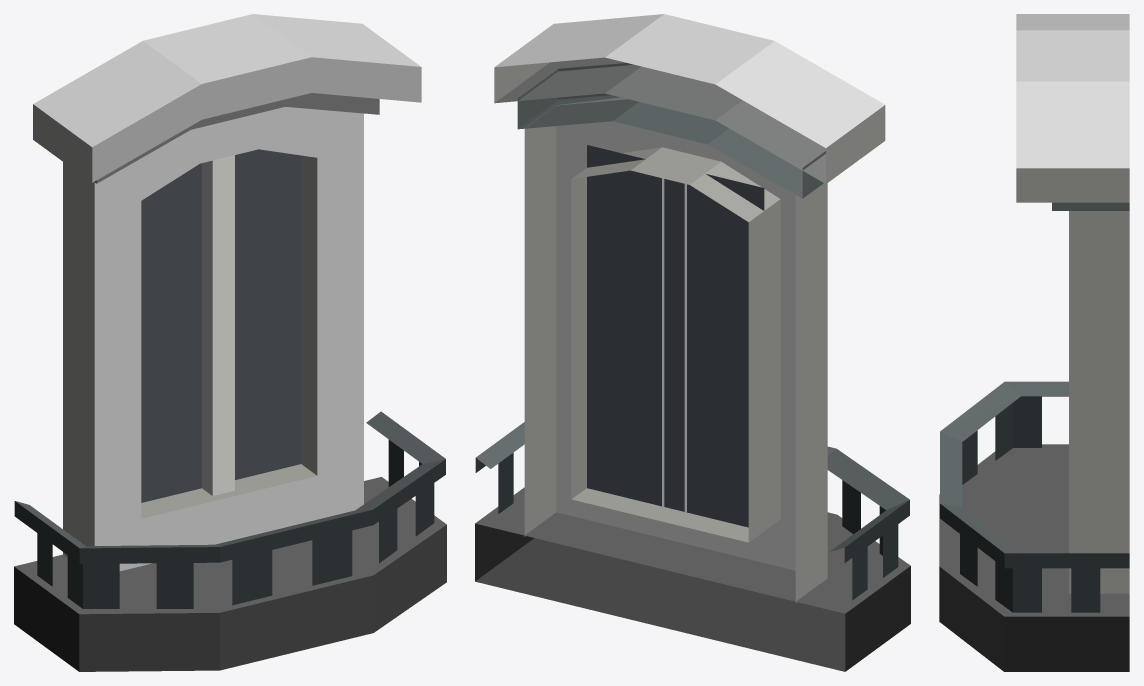
The model's file is TB_CITY_BD_Window_H.FBX.
3 views of the same model, side by side, from view 1: azimuth 30°, elevation 25°; view 2: azimuth 150°, elevation 25°; view 3: azimuth 270°, elevation 25° (orthographic). The views are drawn at different scales.
Parts seen in each view (by area): view 1: TB_CITY_BD_Window_H; view 2: TB_CITY_BD_Window_H; view 3: TB_CITY_BD_Window_H.
Boxes of the visible parts, left/top/right/bottom form: TB_CITY_BD_Window_H: left=14, top=14, right=446, bottom=671; TB_CITY_BD_Window_H: left=475, top=14, right=910, bottom=671; TB_CITY_BD_Window_H: left=939, top=14, right=1129, bottom=671.
Bounding box in the file's own units: 1.96 × 2.82 × 0.9153.
